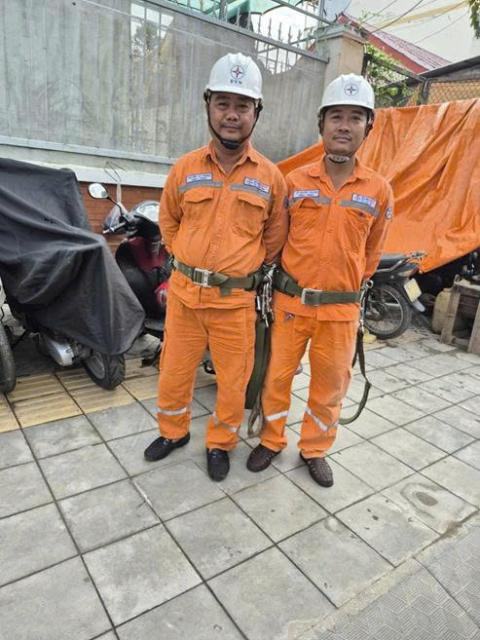harness: (169, 250, 264, 298), (269, 261, 366, 307)
helmet: (204, 46, 272, 112), (313, 66, 384, 122)
shoes: (230, 430, 286, 472), (133, 426, 198, 461), (301, 446, 346, 494), (200, 440, 240, 485)
